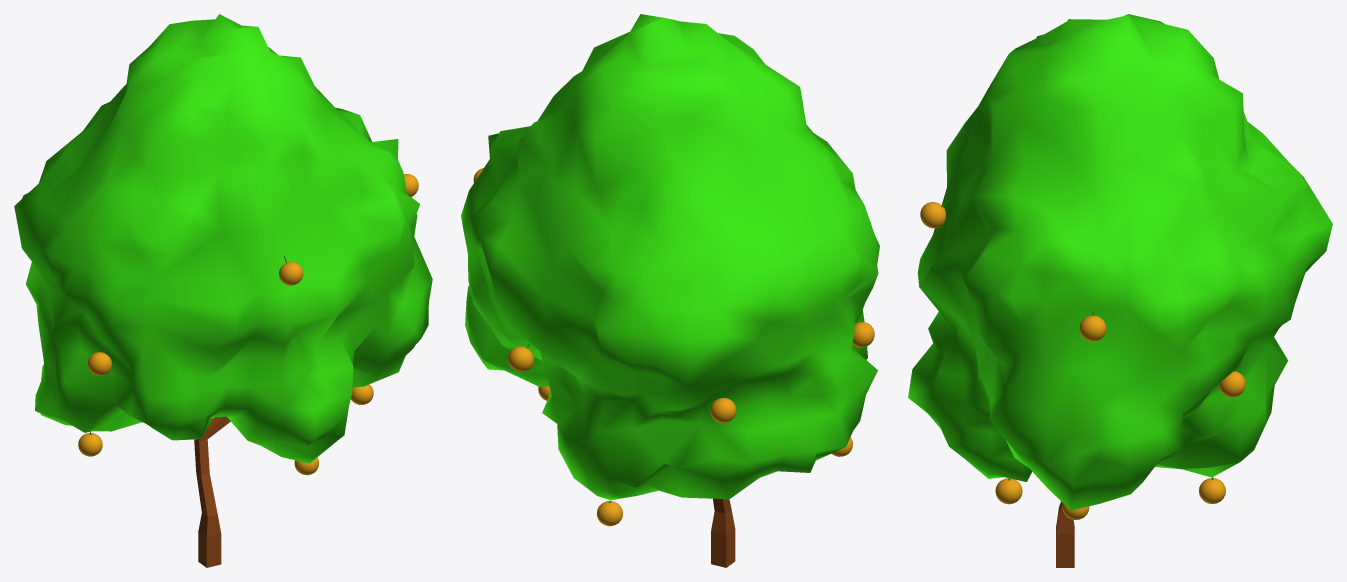
File: SM_OrangeTree_002.fbx
The picture shows the model from 3 angles, left to right: view 1: azimuth 30°, elevation 25°; view 2: azimuth 150°, elevation 25°; view 3: azimuth 270°, elevation 25°; orthographic projection. The views are drawn at different scales.
Visible parts, largest first — view 1: OrangeTree_02; view 2: OrangeTree_02; view 3: OrangeTree_02.
Boxes of the visible parts, <box> form: OrangeTree_02: <box>14,14,432,567</box>; OrangeTree_02: <box>461,14,879,567</box>; OrangeTree_02: <box>908,14,1332,567</box>.
Bounding box in the file's own units: 361 × 485 × 328.
